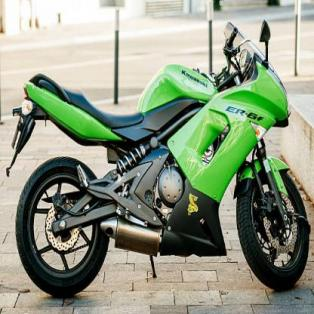Motocicleta: (4, 15, 311, 297)
